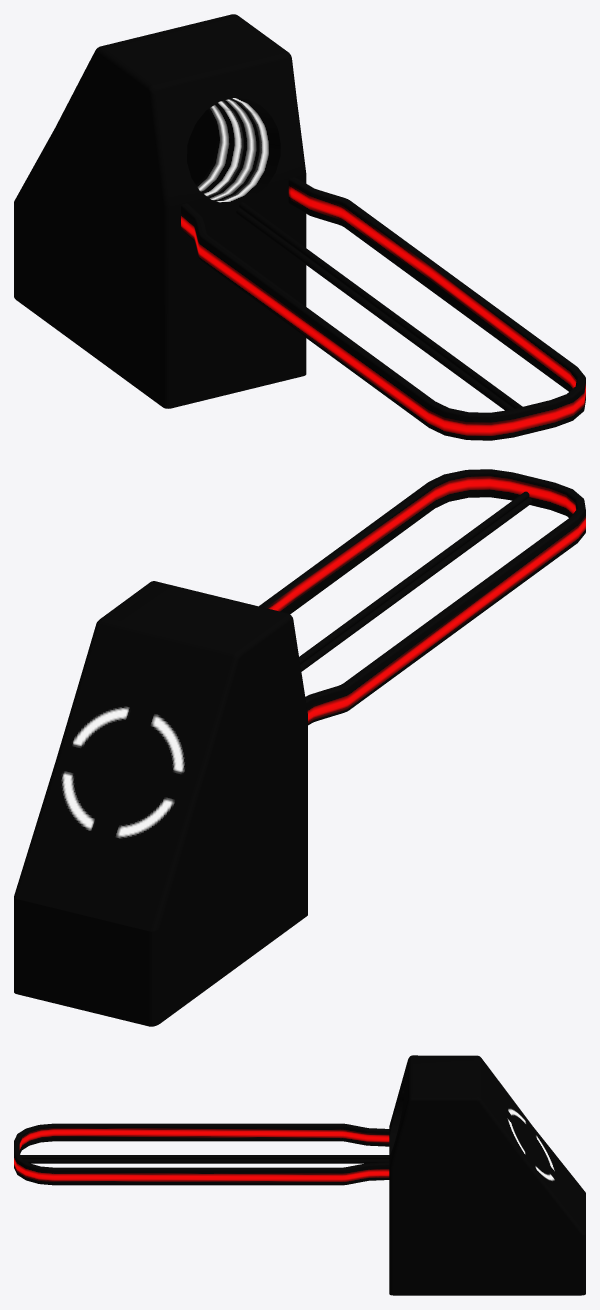
Rendered from Bowlstand.fbx.
3 views of the same model, one above another, from view 1: azimuth 30°, elevation 25°; view 2: azimuth 150°, elevation 25°; view 3: azimuth 270°, elevation 25° (orthographic). The views are drawn at different scales.
Visible parts, largest first — view 1: Bowlstand; view 2: Bowlstand; view 3: Bowlstand.
Part boxes in pixels (x1,y1,x2,y2): Bowlstand: (14,14,585,440); Bowlstand: (14,469,585,1026); Bowlstand: (14,1055,585,1295).
Bounding box in the file's own units: 47.97 × 95.09 × 250.
